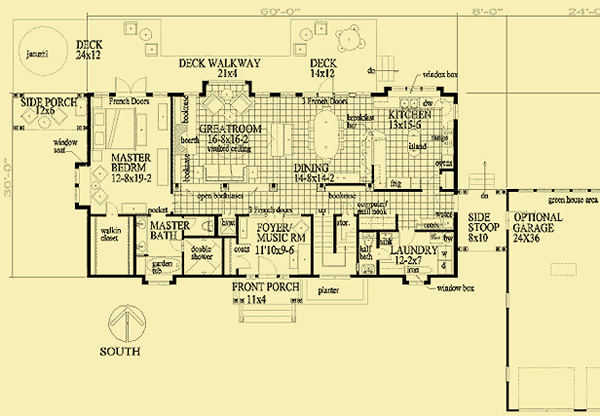bed: (92, 106, 141, 152)
dining table: (306, 104, 348, 165)
door: (112, 75, 149, 95), (235, 239, 253, 273), (255, 255, 279, 276), (314, 75, 336, 96), (103, 200, 120, 218), (397, 229, 415, 246)
kitchen bar: (268, 121, 296, 161)
large sink: (200, 217, 214, 234), (361, 231, 375, 247)
large sofa: (203, 164, 251, 185)
round table: (333, 21, 367, 55)
small sink: (134, 215, 150, 258)
small sofa: (230, 89, 256, 115), (200, 92, 225, 116), (90, 187, 109, 206), (121, 20, 140, 39), (19, 108, 38, 126), (51, 107, 69, 126), (289, 41, 309, 58), (312, 20, 330, 38), (92, 165, 111, 182), (142, 41, 159, 58)
stairs: (307, 208, 359, 275), (237, 290, 298, 327), (366, 52, 399, 86), (466, 158, 496, 194)
tub: (145, 257, 182, 276)
windows: (389, 84, 439, 94), (71, 165, 83, 206), (207, 78, 246, 87), (317, 273, 352, 283), (406, 279, 427, 289)
